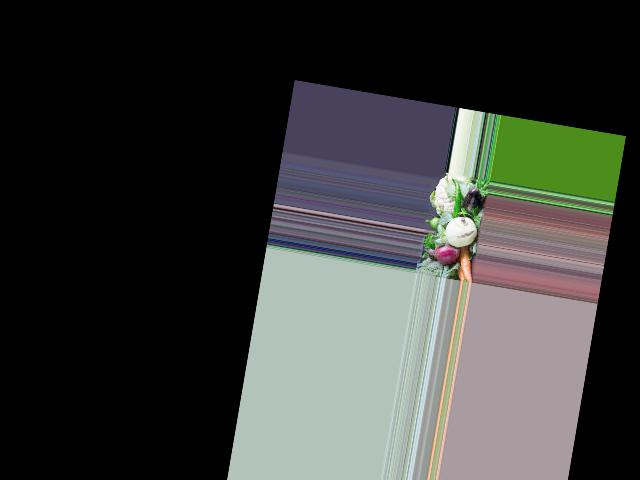carrot: (453, 252, 477, 283)
